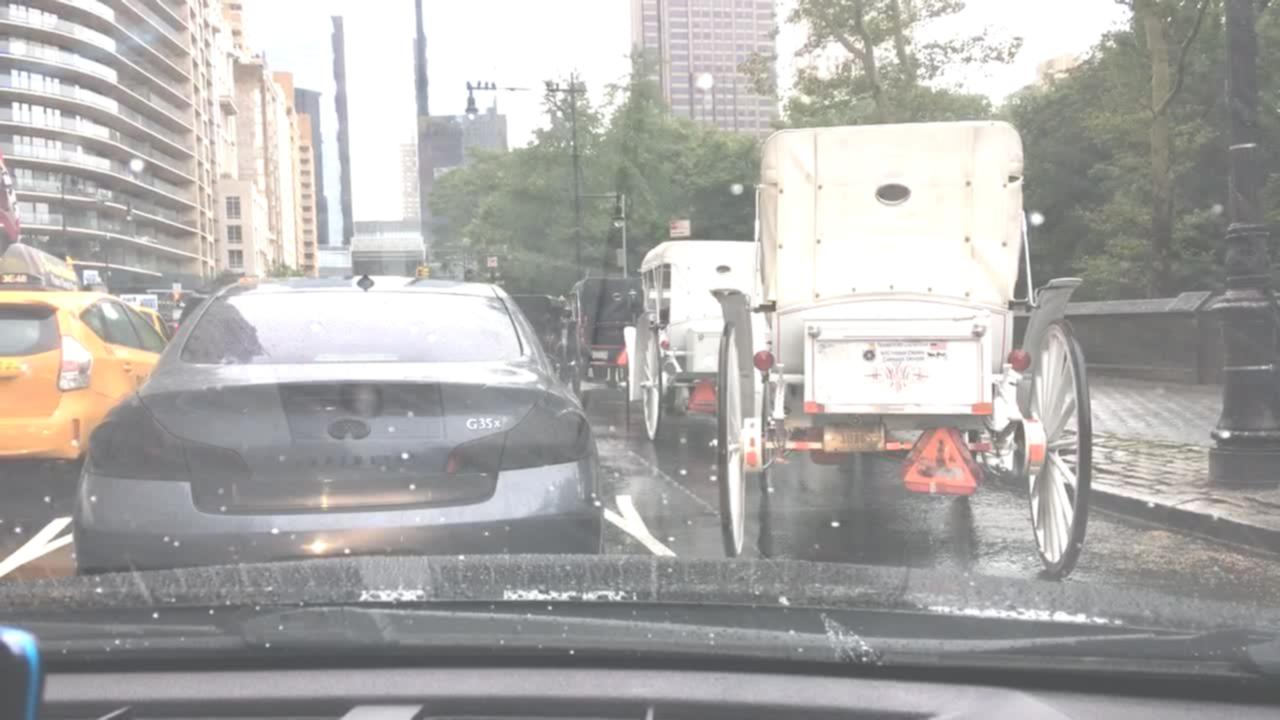Infiniti: (323, 415, 376, 442)
